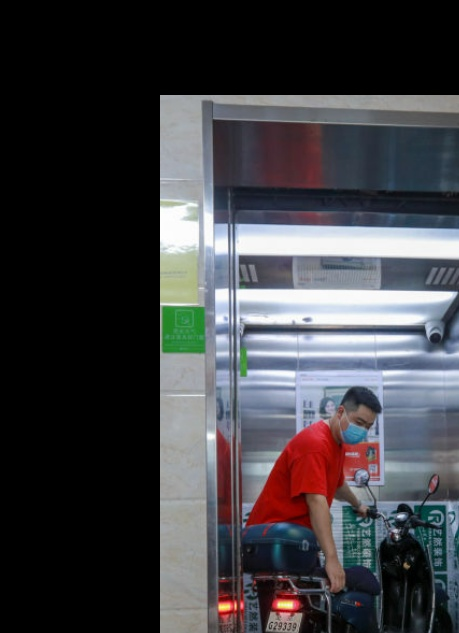ebike: (243, 467, 451, 633)
person: (243, 388, 386, 584)
